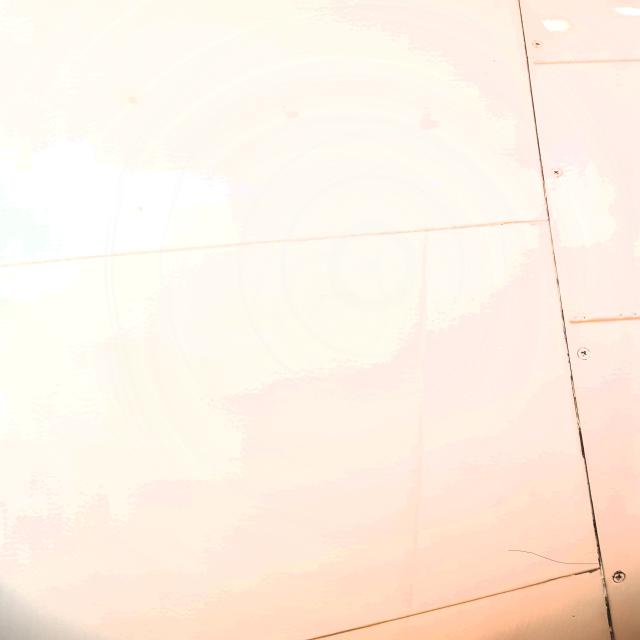Rupture: (505, 532, 608, 578)
